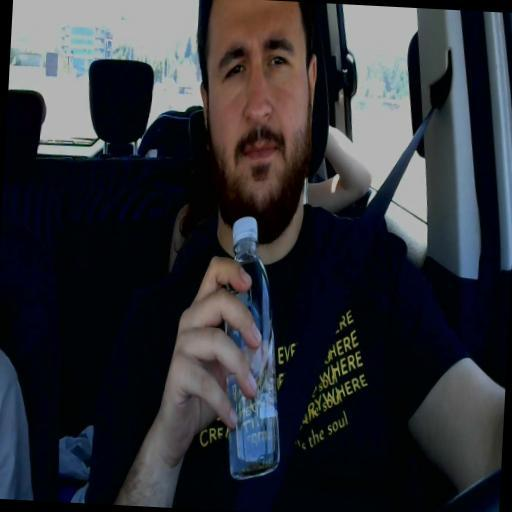Drinking: (177, 0, 321, 480)
